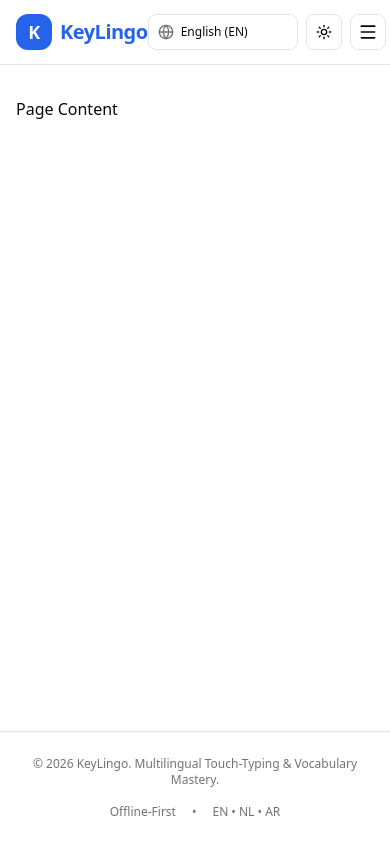
Test: AppShell Challenge & Stress Suite › Mobile Navigation Drawer › opens drawer on hamburger click and closes on second click
This screenshot has width=390, height=844.
# Click to open
Click the button named "Toggle Mobile Menu" at (368, 32), box [350,14,386,50]
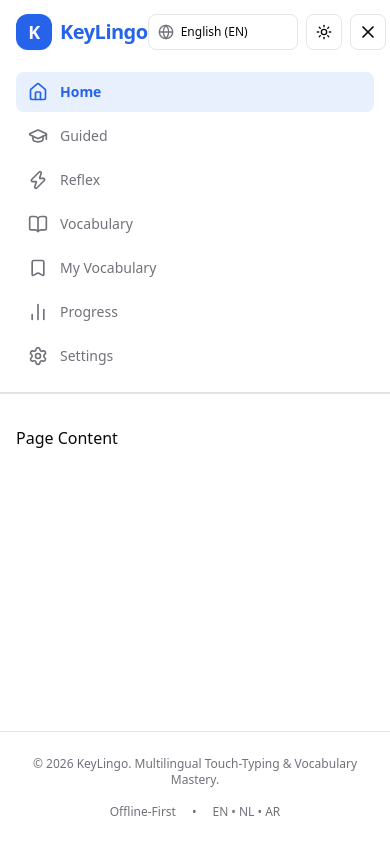
expect the button named "Toggle Mobile Menu" is expanded: met
expect the navigation bar named "Mobile Navigation" is shown: met, box [16,72,374,376]
# Click to close
Click the button named "Toggle Mobile Menu" at (368, 32), box [350,14,386,50]
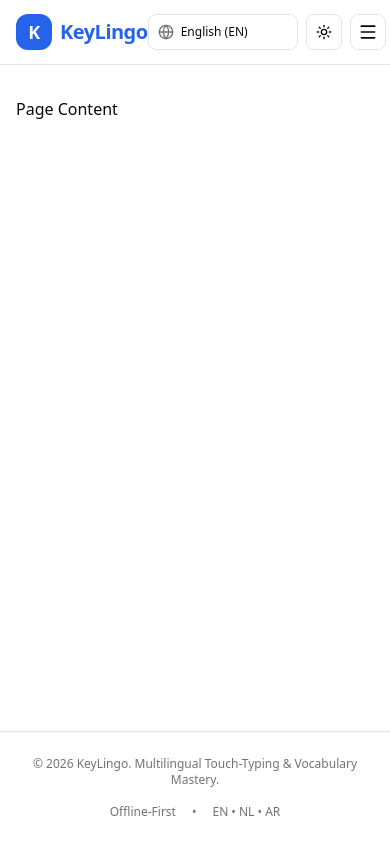
expect the button named "Toggle Mobile Menu" is collapsed: met, box [350,14,386,50]
